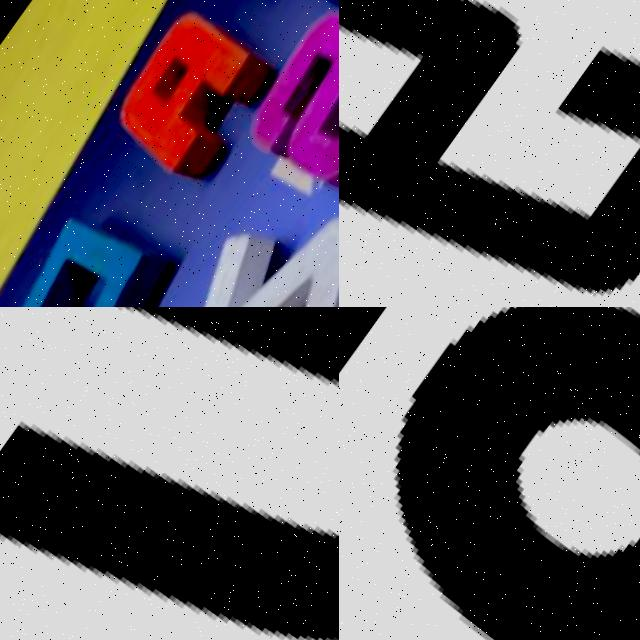9: (339, 307, 640, 640), (339, 0, 640, 307)
A: (102, 0, 288, 191)
D: (0, 175, 198, 307)
S: (231, 0, 339, 217)
T: (208, 0, 339, 40)
U: (0, 307, 339, 640)
Z: (143, 127, 339, 307)
